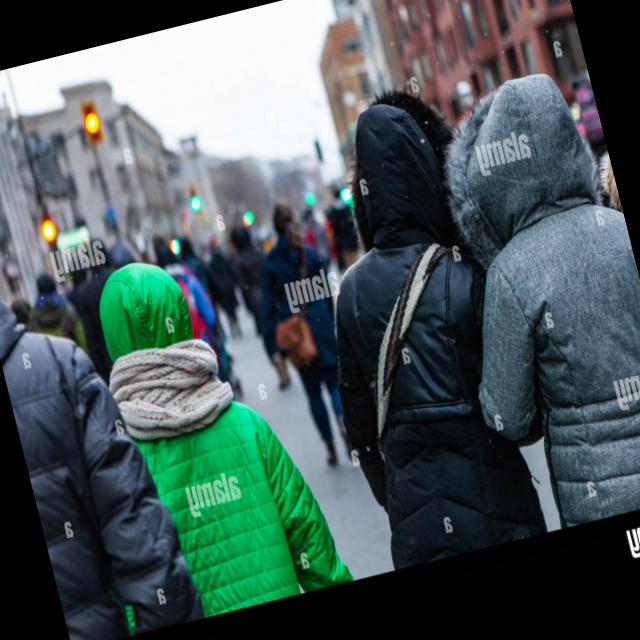Jacket: (293, 218, 562, 579), (435, 185, 640, 543), (98, 341, 346, 634), (0, 304, 212, 640)
